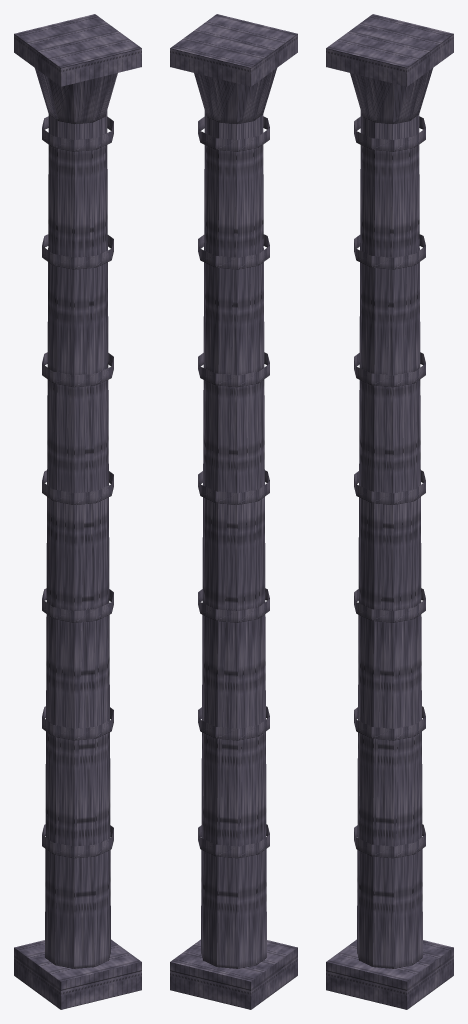
Rendered from Oracle_Hall_Column_LOD1.gltf.
The picture shows the model from 3 angles, left to right: view 1: azimuth 30°, elevation 25°; view 2: azimuth 150°, elevation 25°; view 3: azimuth 330°, elevation 25°; orthographic projection.
Visible parts, largest first — view 1: Oracle_Hall_Column_LOD1; view 2: Oracle_Hall_Column_LOD1; view 3: Oracle_Hall_Column_LOD1.
Boxes of the visible parts, box(x1,y1,x2,y2) form: Oracle_Hall_Column_LOD1: box(14, 14, 141, 1009); Oracle_Hall_Column_LOD1: box(170, 14, 297, 1009); Oracle_Hall_Column_LOD1: box(326, 14, 453, 1009).
Size of the model in its own units: 3.6 by 40 by 3.6.
Materials: 1 (1 with a texture image).
